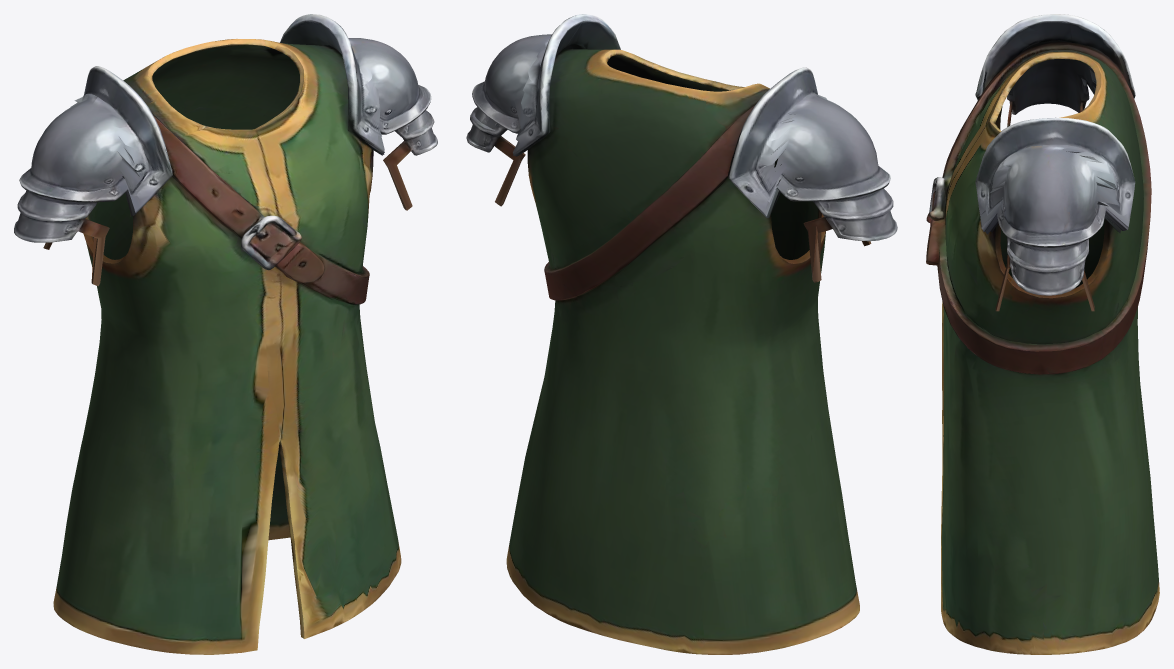
File: warrior_m_tabard.glb
The picture shows the model from 3 angles, left to right: view 1: azimuth 30°, elevation 25°; view 2: azimuth 150°, elevation 25°; view 3: azimuth 270°, elevation 25°; orthographic projection. The views are drawn at different scales.
Parts seen in each view (by area): view 1: model; view 2: model; view 3: model.
Boxes of the visible parts, <box> form: model: <box>14,14,437,654</box>; model: <box>466,14,897,654</box>; model: <box>926,14,1159,654</box>.
Bounding box in the file's own units: 0.7467 × 0.9499 × 0.3757.
1 material, 1 textured.
